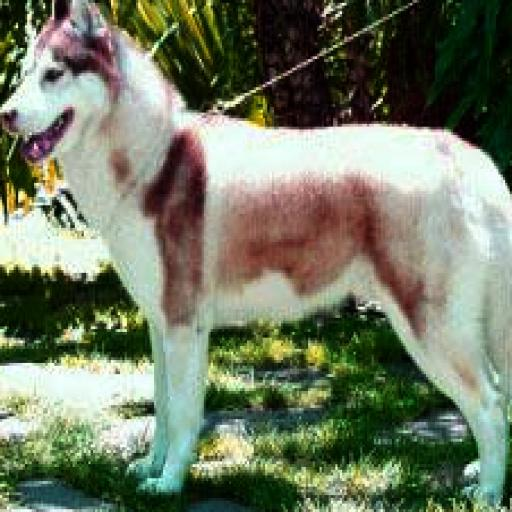dog_face: (0, 0, 109, 169)
